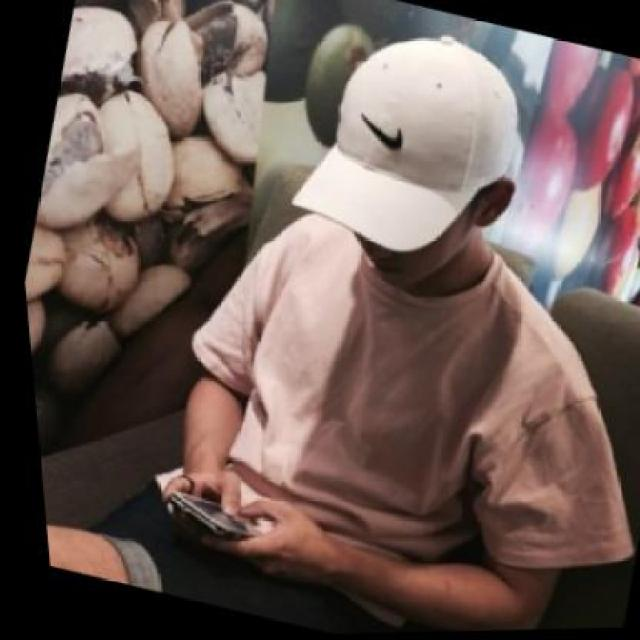hat: (264, 0, 558, 285)
